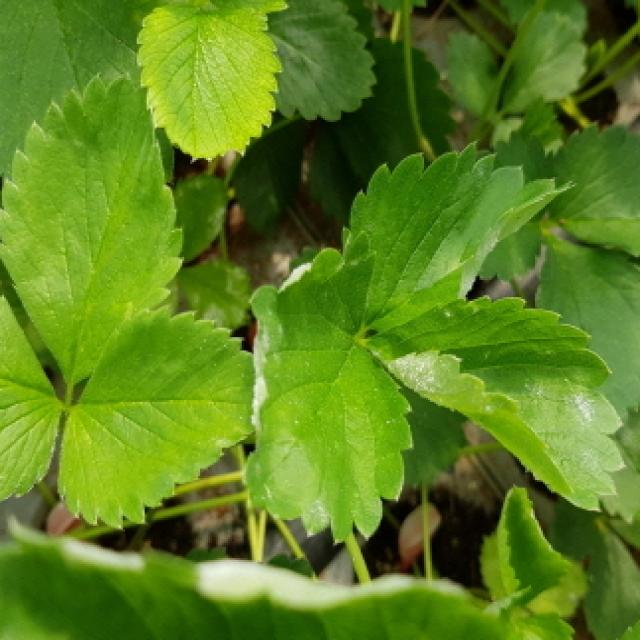Powdery Mildew Leaf: (359, 293, 626, 514), (239, 227, 416, 545), (341, 139, 576, 336)
